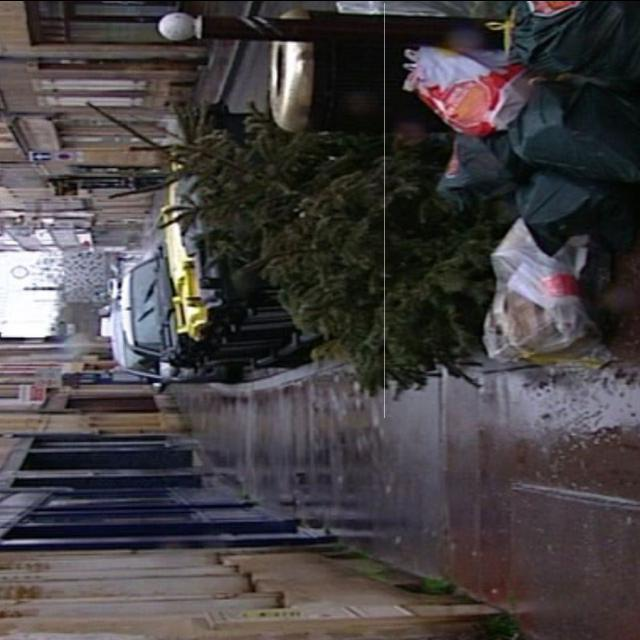Trashbag: (511, 68, 639, 186), (506, 162, 640, 258), (497, 0, 640, 82), (441, 134, 521, 205)
